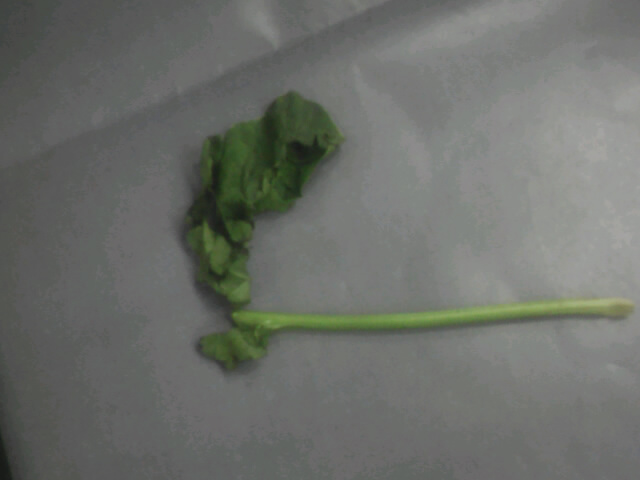yellow: (173, 74, 328, 381)
